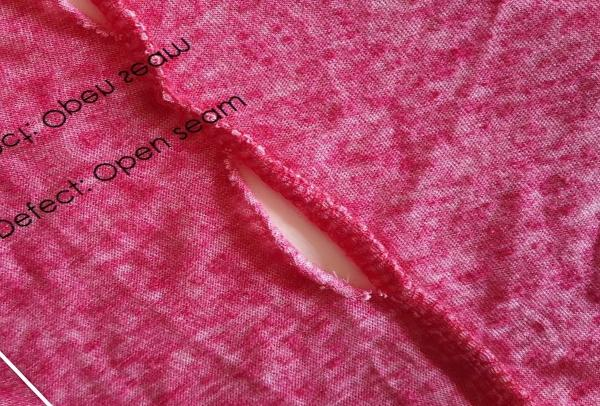hole: (223, 152, 387, 304)
